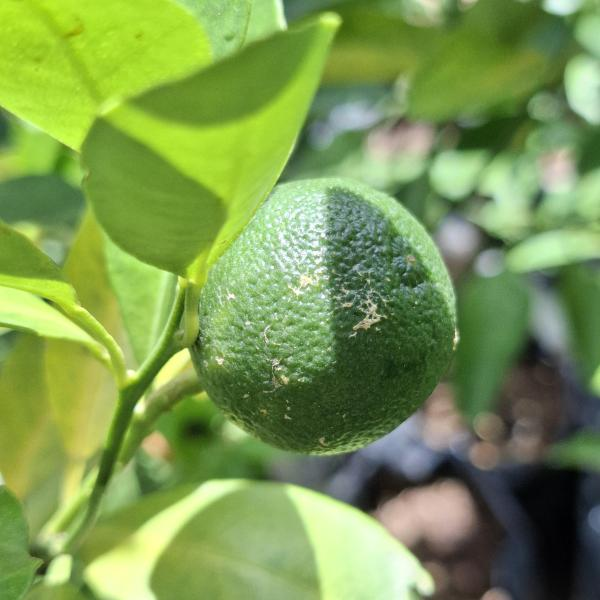Scab: (175, 165, 478, 466)
